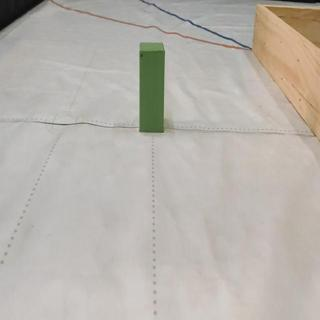greenbox: (139, 41, 166, 133)
